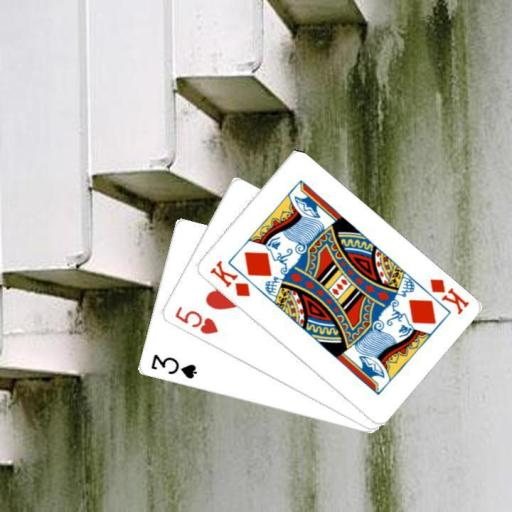card-corner: (206, 256, 252, 298), (426, 276, 471, 316), (171, 303, 219, 336), (147, 351, 198, 381)
